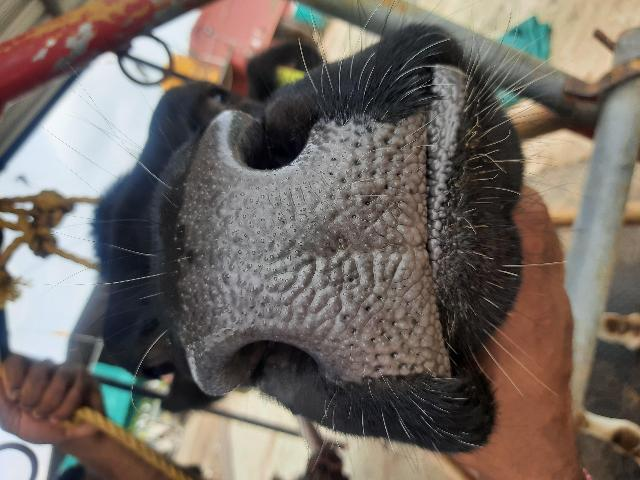Muzzle: (194, 172, 432, 332)
